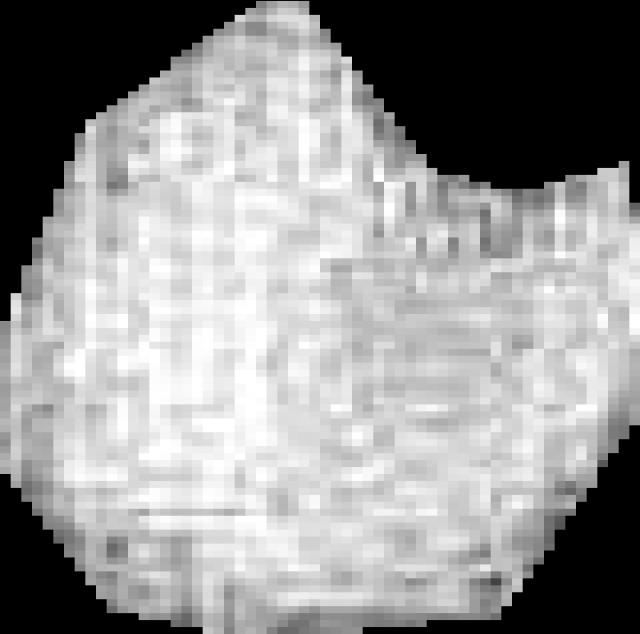tumor_good_chance: (0, 1, 640, 634)
